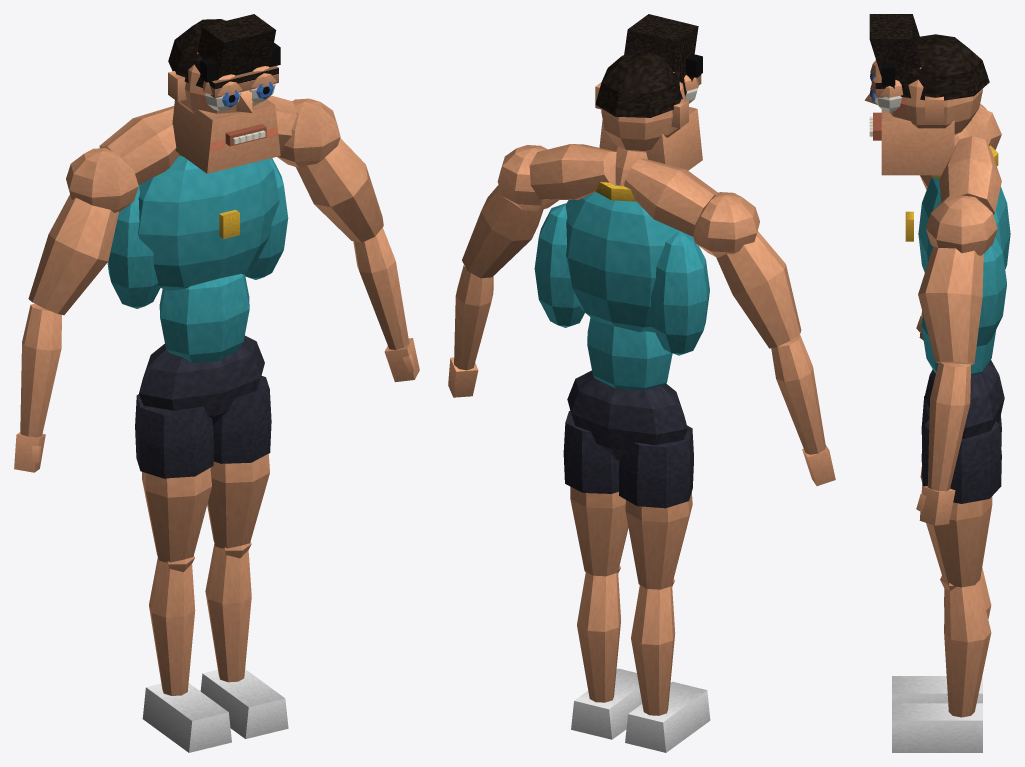
Rendered from Boss_Brayan.fbx.
3 views of the same model, side by side, from view 1: azimuth 30°, elevation 25°; view 2: azimuth 150°, elevation 25°; view 3: azimuth 270°, elevation 25° (orthographic). The views are drawn at different scales.
Visible parts, largest first — view 1: Brayan_Export; view 2: Brayan_Export; view 3: Brayan_Export.
Part boxes in pixels (<box>): Brayan_Export: <box>14,14,419,752</box>; Brayan_Export: <box>448,14,835,752</box>; Brayan_Export: <box>864,14,1010,752</box>.
Size of the model in its own units: 3.93 by 6.59 by 1.24.
Materials: 1 (1 with a texture image).
